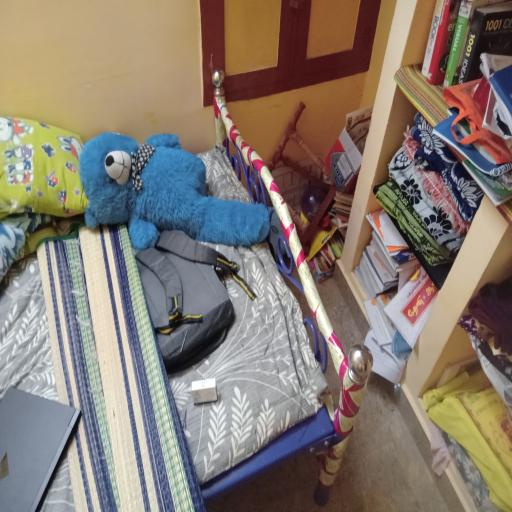Dove`1: (191, 376, 219, 406)
